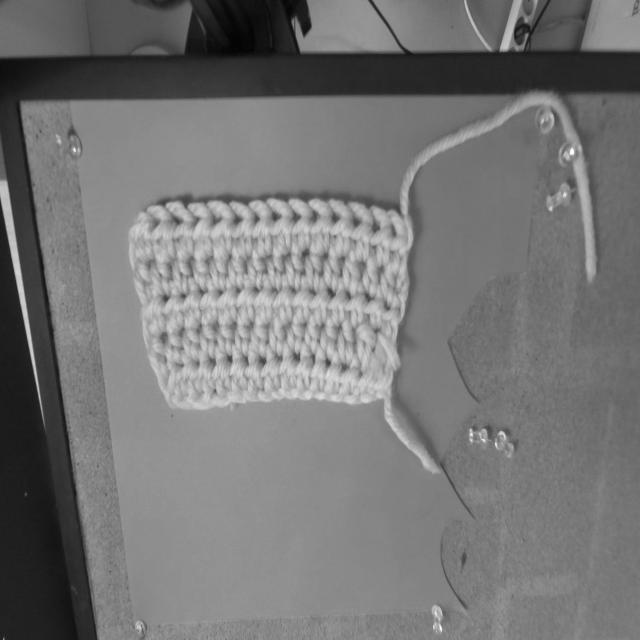ch: (193, 397, 213, 410), (211, 391, 228, 406), (177, 397, 193, 411), (340, 394, 360, 405), (227, 392, 246, 403), (165, 393, 178, 409), (257, 390, 273, 401), (243, 392, 259, 402), (268, 389, 283, 399), (296, 390, 312, 399), (282, 388, 295, 399), (375, 389, 389, 399), (358, 396, 374, 404), (314, 391, 327, 400), (327, 394, 342, 401)
hdc: (207, 198, 236, 262), (388, 210, 412, 280), (165, 202, 195, 256), (347, 201, 373, 263), (188, 203, 216, 260), (266, 198, 294, 255), (229, 201, 255, 260), (286, 200, 314, 252), (329, 199, 353, 259), (249, 199, 274, 256), (308, 200, 333, 257), (370, 206, 393, 267), (150, 207, 175, 263), (146, 244, 171, 296), (144, 322, 168, 376), (143, 283, 167, 336), (253, 273, 277, 325), (356, 312, 376, 374), (326, 275, 349, 328), (358, 351, 385, 394), (133, 250, 154, 305), (362, 283, 385, 331), (181, 276, 202, 328), (273, 274, 294, 325), (171, 243, 192, 294), (164, 281, 185, 331), (285, 236, 304, 291), (380, 254, 399, 309), (278, 340, 299, 389), (180, 349, 201, 398), (235, 274, 256, 323), (343, 242, 362, 296), (211, 344, 231, 395), (339, 348, 360, 396), (337, 311, 355, 367), (217, 277, 238, 325), (245, 342, 264, 395), (308, 276, 328, 326), (261, 344, 282, 391), (295, 341, 315, 390), (228, 343, 248, 391), (165, 349, 184, 399), (292, 272, 310, 324), (305, 241, 323, 293), (163, 314, 182, 362), (209, 243, 227, 292), (228, 240, 246, 289), (286, 311, 306, 355), (200, 312, 218, 360), (251, 312, 269, 360), (200, 276, 218, 323), (248, 243, 266, 290), (197, 348, 214, 397), (310, 343, 326, 394), (321, 312, 337, 363), (322, 245, 340, 290), (325, 347, 342, 394), (269, 309, 286, 356), (183, 317, 200, 363), (267, 245, 284, 291), (217, 315, 235, 358), (382, 294, 399, 339), (192, 247, 208, 294), (235, 310, 250, 358), (363, 249, 378, 297), (304, 312, 321, 353), (351, 295, 368, 328)
